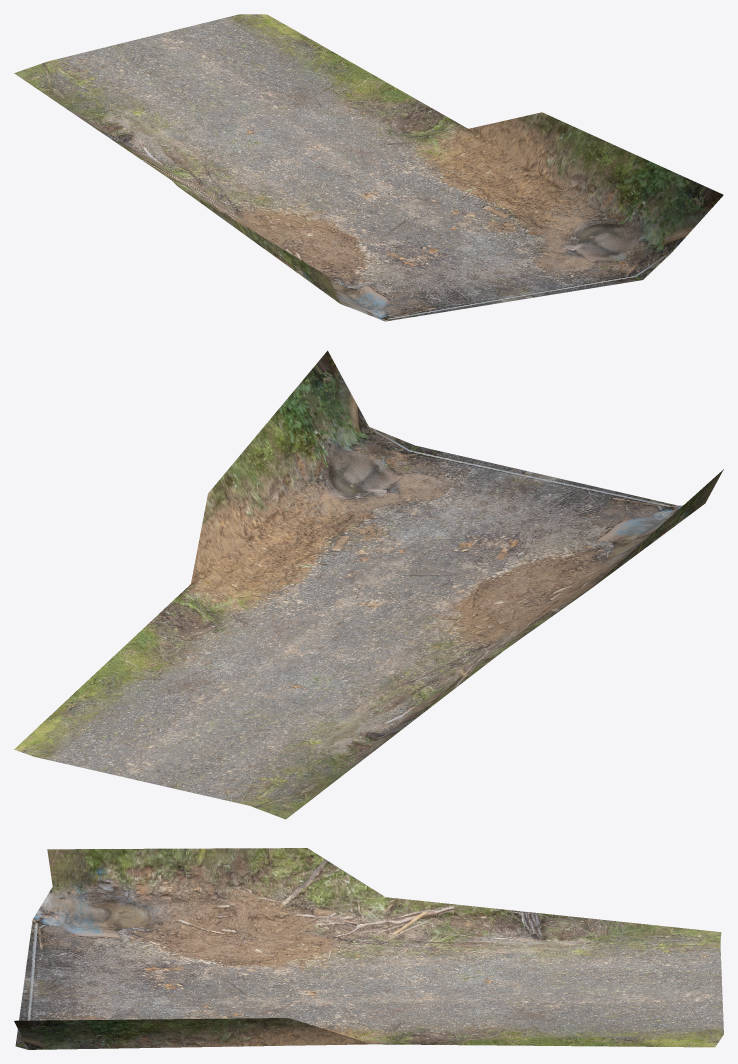
File: Entrance_LP.002.fbx
3 renders of one model, top to bottom at view 1: azimuth 30°, elevation 25°; view 2: azimuth 150°, elevation 25°; view 3: azimuth 270°, elevation 25°, orthographic. The views are drawn at different scales.
Parts seen in each view (by area): view 1: Entrance_LP.002; view 2: Entrance_LP.002; view 3: Entrance_LP.002.
Boxes of the visible parts, left/top/right/bottom form: Entrance_LP.002: left=14, top=14, right=723, bottom=321; Entrance_LP.002: left=14, top=350, right=723, bottom=819; Entrance_LP.002: left=14, top=848, right=723, bottom=1049.
Bounding box in the file's own units: 5.27 × 0.9009 × 8.74.
